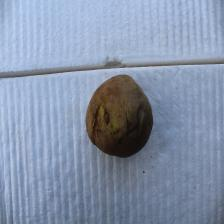Diseased-fungal potato: (82, 72, 154, 162)
